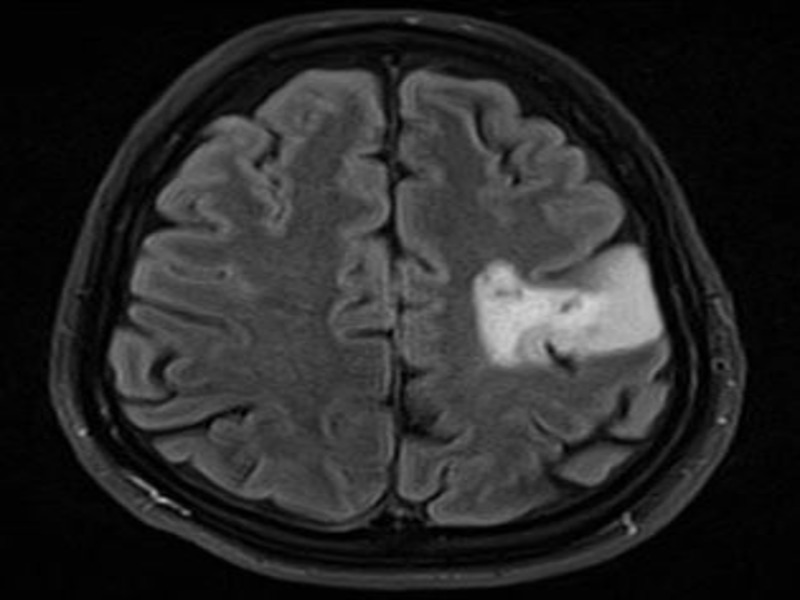tumor: (466, 231, 670, 377)
